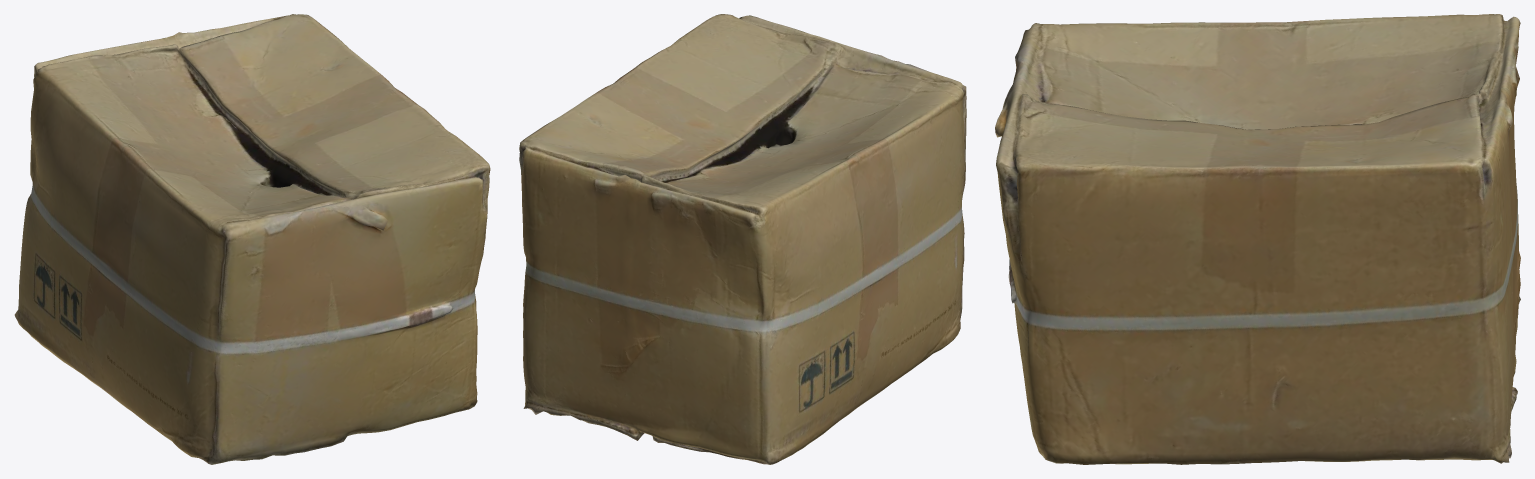
The model's file is cardboard_box_01.glb.
3 renders of one model, left to right at view 1: azimuth 30°, elevation 25°; view 2: azimuth 150°, elevation 25°; view 3: azimuth 270°, elevation 25°, orthographic. The views are drawn at different scales.
Visible parts, largest first — view 1: cardboard_box_01; view 2: cardboard_box_01; view 3: cardboard_box_01.
Boxes of the visible parts, bbox=[...] form: cardboard_box_01: bbox=[14, 14, 490, 464]; cardboard_box_01: bbox=[519, 14, 966, 464]; cardboard_box_01: bbox=[995, 14, 1520, 464].
Bounding box in the file's own units: 0.387 × 0.3418 × 0.5159.
Materials: 1 (1 with a texture image).
